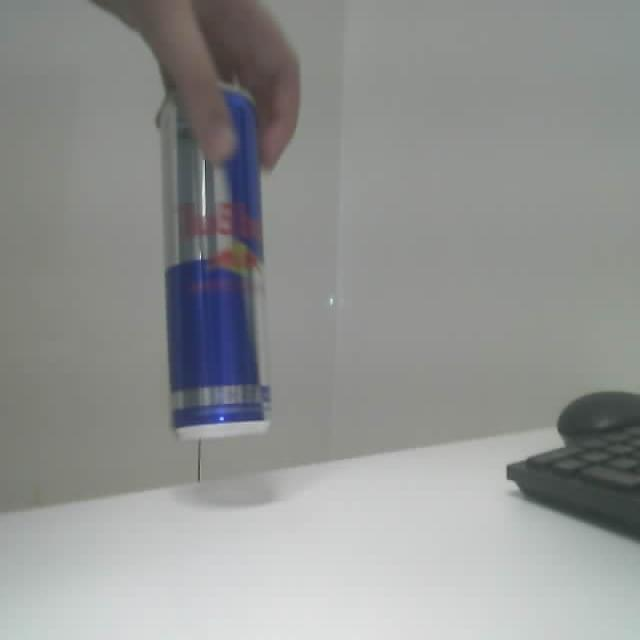redbull can: (157, 87, 269, 439)
